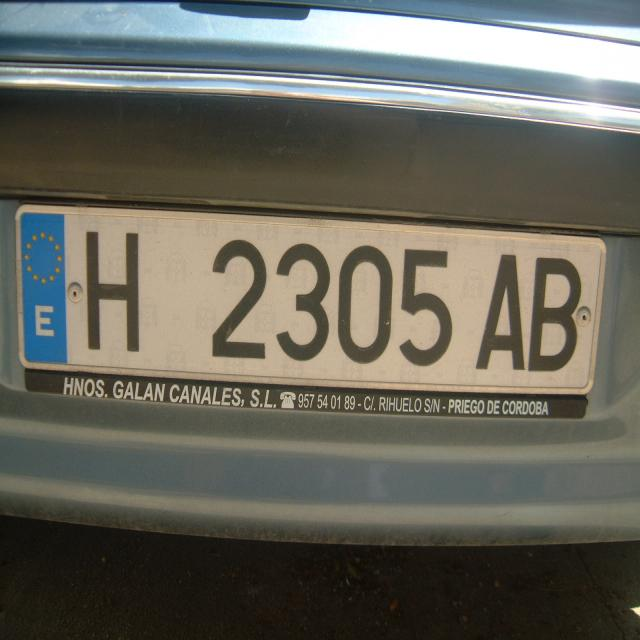license_plate-34Td: (16, 205, 605, 394)
